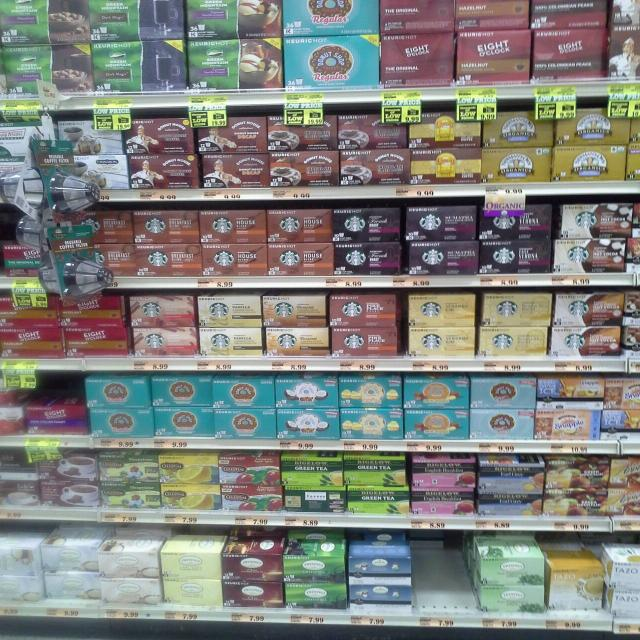void: (410, 528, 474, 628)
